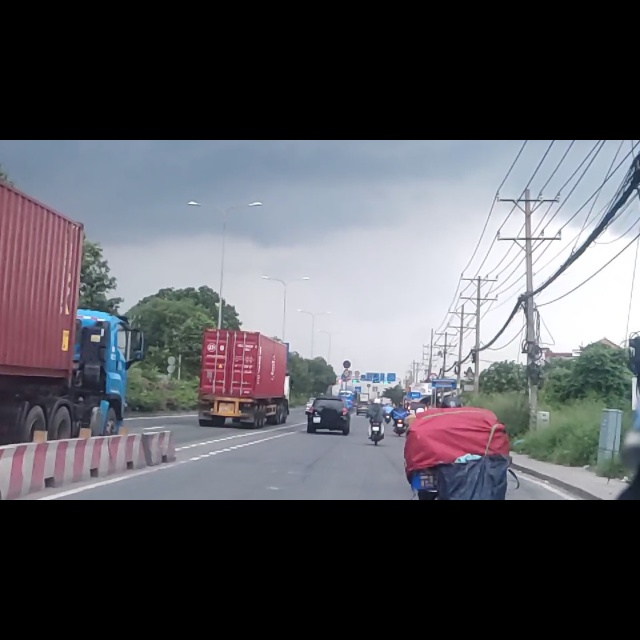bien_chi_dan: (342, 390, 352, 407)
